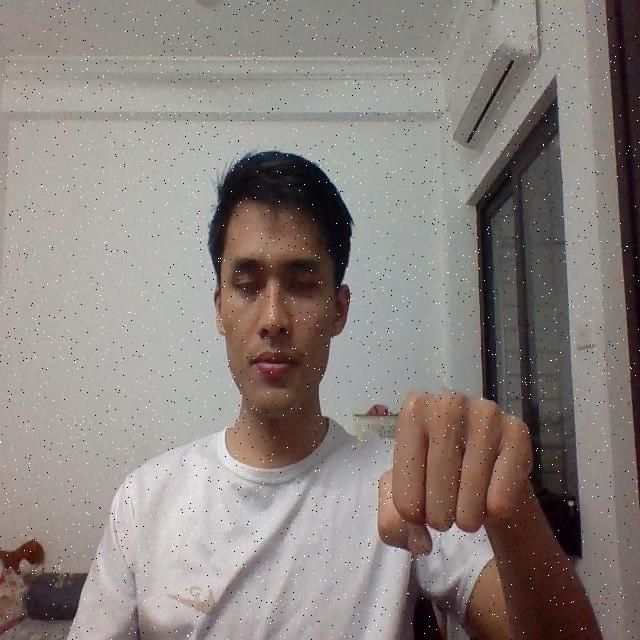yes: (368, 379, 546, 556)
